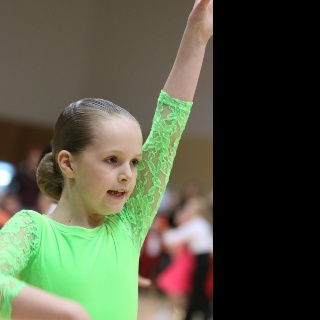without_mask: (72, 119, 144, 214)
